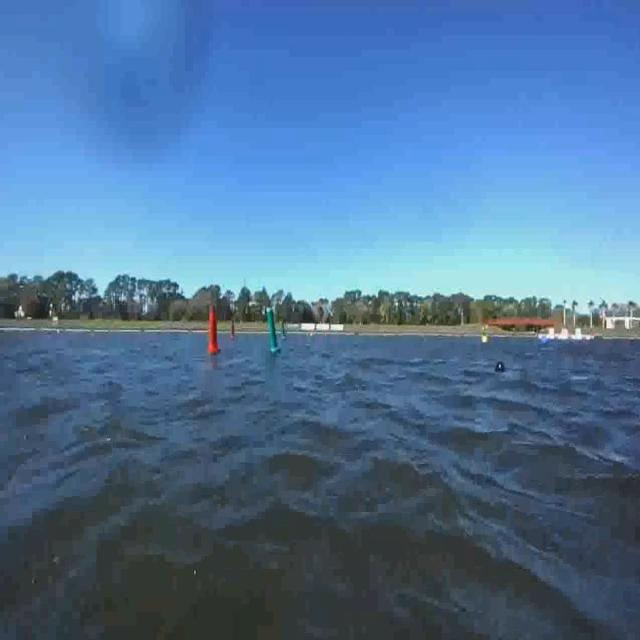black-buoy: (494, 359, 506, 373)
green-column-buoy: (267, 309, 282, 356)
red-column-buoy: (207, 306, 221, 354), (229, 324, 236, 343)
yellow-buoy: (482, 334, 490, 346)
